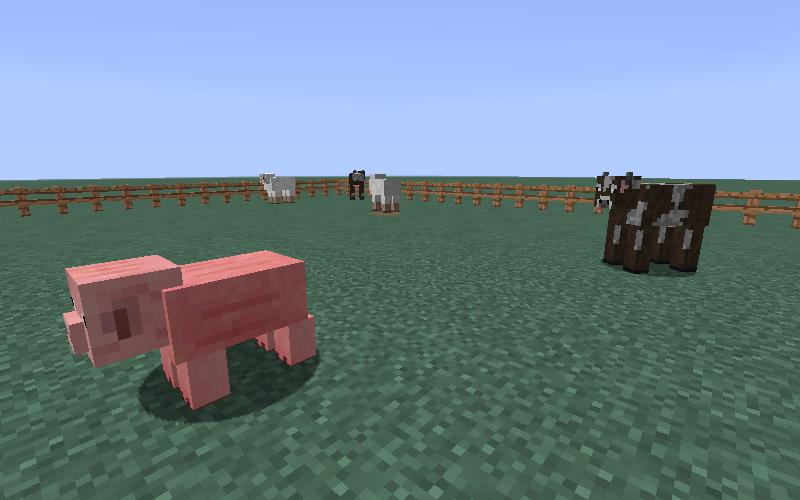cow: (590, 168, 720, 280), (348, 170, 365, 200)
pig: (58, 244, 327, 417)
sheep: (364, 172, 404, 215), (257, 171, 299, 206)
